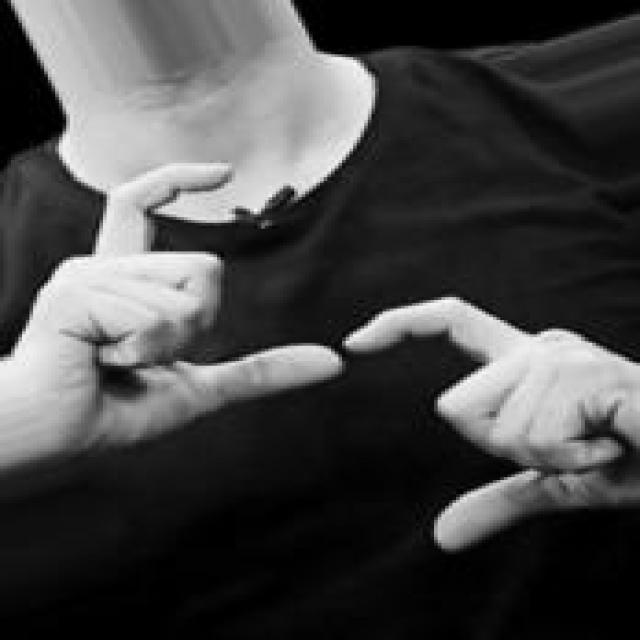S: (0, 152, 640, 554)
